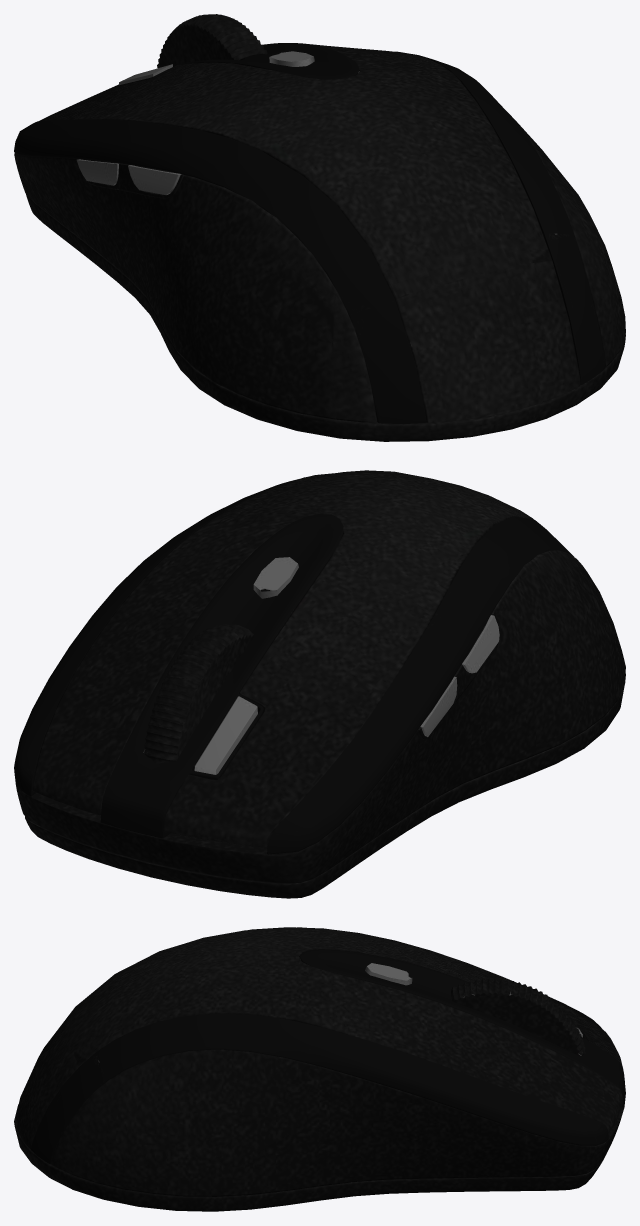
File: WX_ShuBiao.fbx
The picture shows the model from 3 angles, top to bottom: view 1: azimuth 30°, elevation 25°; view 2: azimuth 150°, elevation 25°; view 3: azimuth 270°, elevation 25°; orthographic projection. The views are drawn at different scales.
Parts seen in each view (by area): view 1: WX_ShuBiao; view 2: WX_ShuBiao; view 3: WX_ShuBiao.
Part boxes in pixels (box(x1,y1,x2,y2)): WX_ShuBiao: box(14, 14, 625, 441); WX_ShuBiao: box(14, 470, 625, 898); WX_ShuBiao: box(14, 927, 625, 1211).
Bounding box in the file's own units: 3.4 × 1.87 × 5.63.
